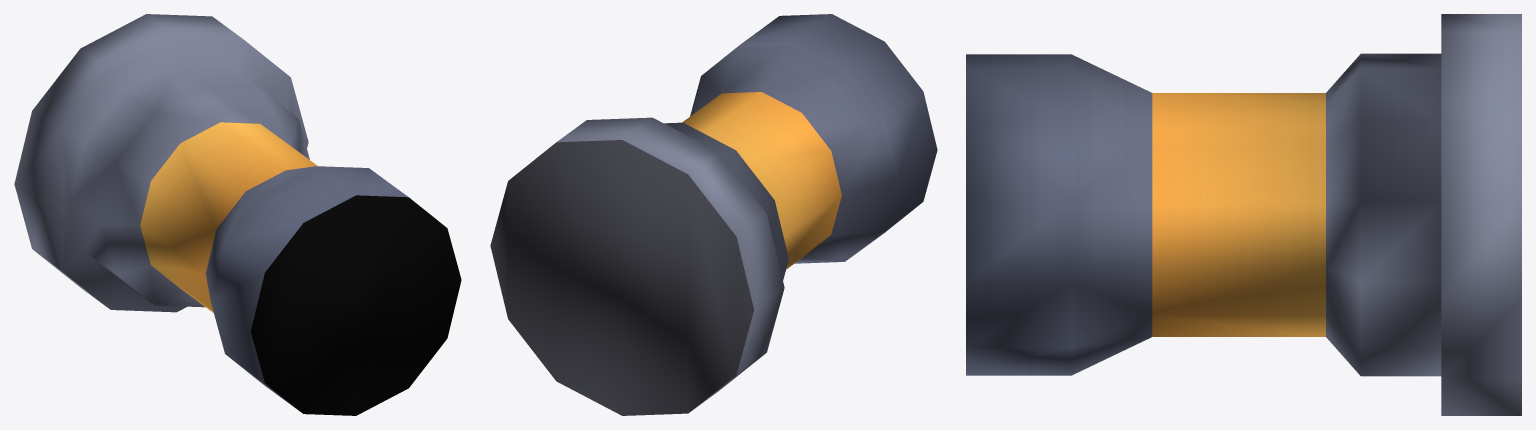
The model's file is @player.001.obj.
3 views of the same model, side by side, from view 1: azimuth 30°, elevation 25°; view 2: azimuth 150°, elevation 25°; view 3: azimuth 270°, elevation 25° (orthographic). The views are drawn at different scales.
Visible parts, largest first — view 1: @player; view 2: @player; view 3: @player.
Boxes of the visible parts, x1,y1,x2,y2 form: @player: (14,14,461,415); @player: (490,14,937,415); @player: (966,14,1521,415).
Bounding box in the file's own units: 0.7258 × 0.7258 × 1.
